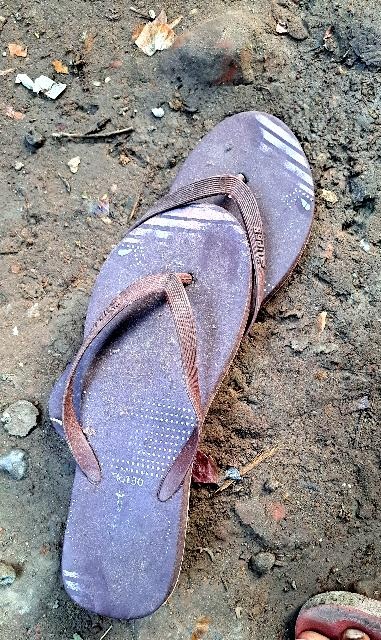sandal: (4, 172, 274, 631), (112, 81, 367, 351)
